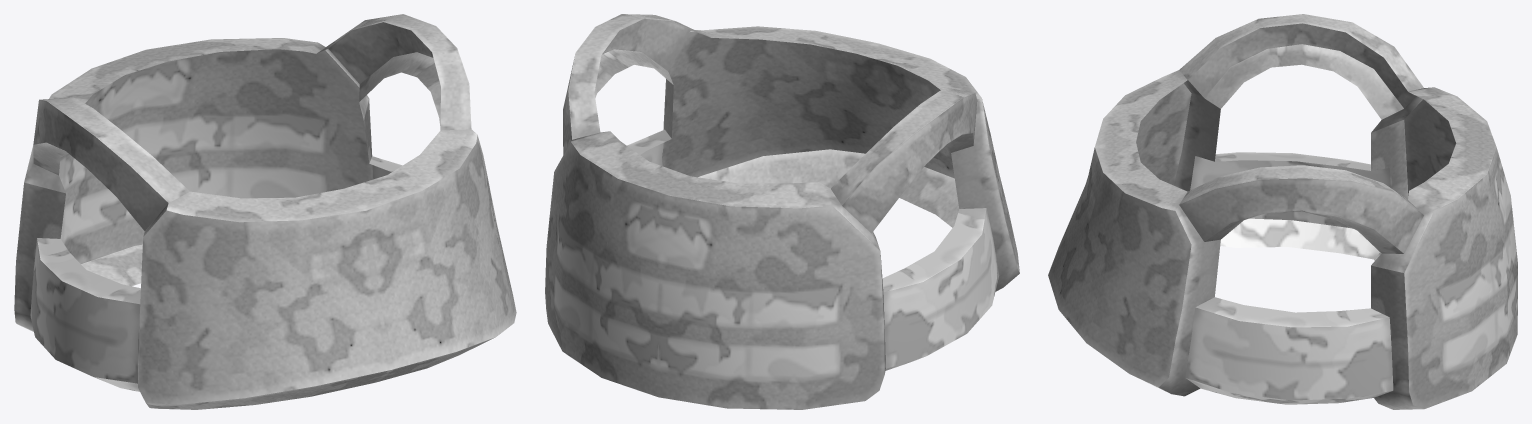
The model's file is IG_Armor_LV2_Snow.fbx.
3 renders of one model, left to right at view 1: azimuth 30°, elevation 25°; view 2: azimuth 150°, elevation 25°; view 3: azimuth 270°, elevation 25°, orthographic. The views are drawn at different scales.
Visible parts, largest first — view 1: Items_Clothes_LV3_Snow; view 2: Items_Clothes_LV3_Snow; view 3: Items_Clothes_LV3_Snow.
Part boxes in pixels (box(x1,y1,x2,y2)): Items_Clothes_LV3_Snow: box(14, 14, 516, 409); Items_Clothes_LV3_Snow: box(545, 14, 1019, 409); Items_Clothes_LV3_Snow: box(1048, 14, 1517, 409).
Size of the model in its own units: 0.5996 by 0.3919 by 0.6603.
